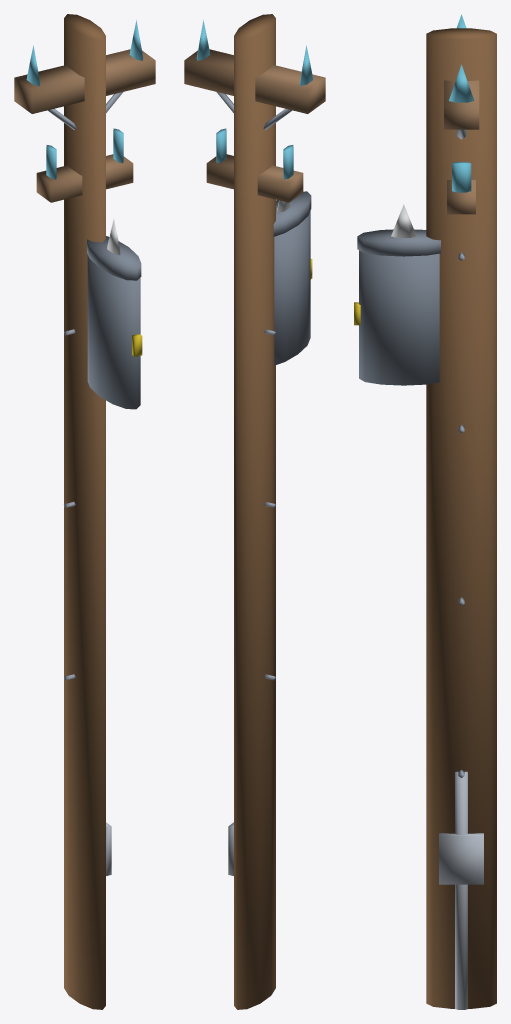
The model's file is power-pole.glb.
The picture shows the model from 3 angles, left to right: view 1: azimuth 30°, elevation 25°; view 2: azimuth 150°, elevation 25°; view 3: azimuth 270°, elevation 25°; orthographic projection.
Visible parts, largest first — view 1: world; view 2: world; view 3: world.
Boxes of the visible parts, x1,y1,x2,y2 form: world: [14, 14, 155, 1009]; world: [184, 14, 325, 1009]; world: [354, 14, 496, 1009].
Size of the model in its own units: 1.2 by 9 by 1.2.
